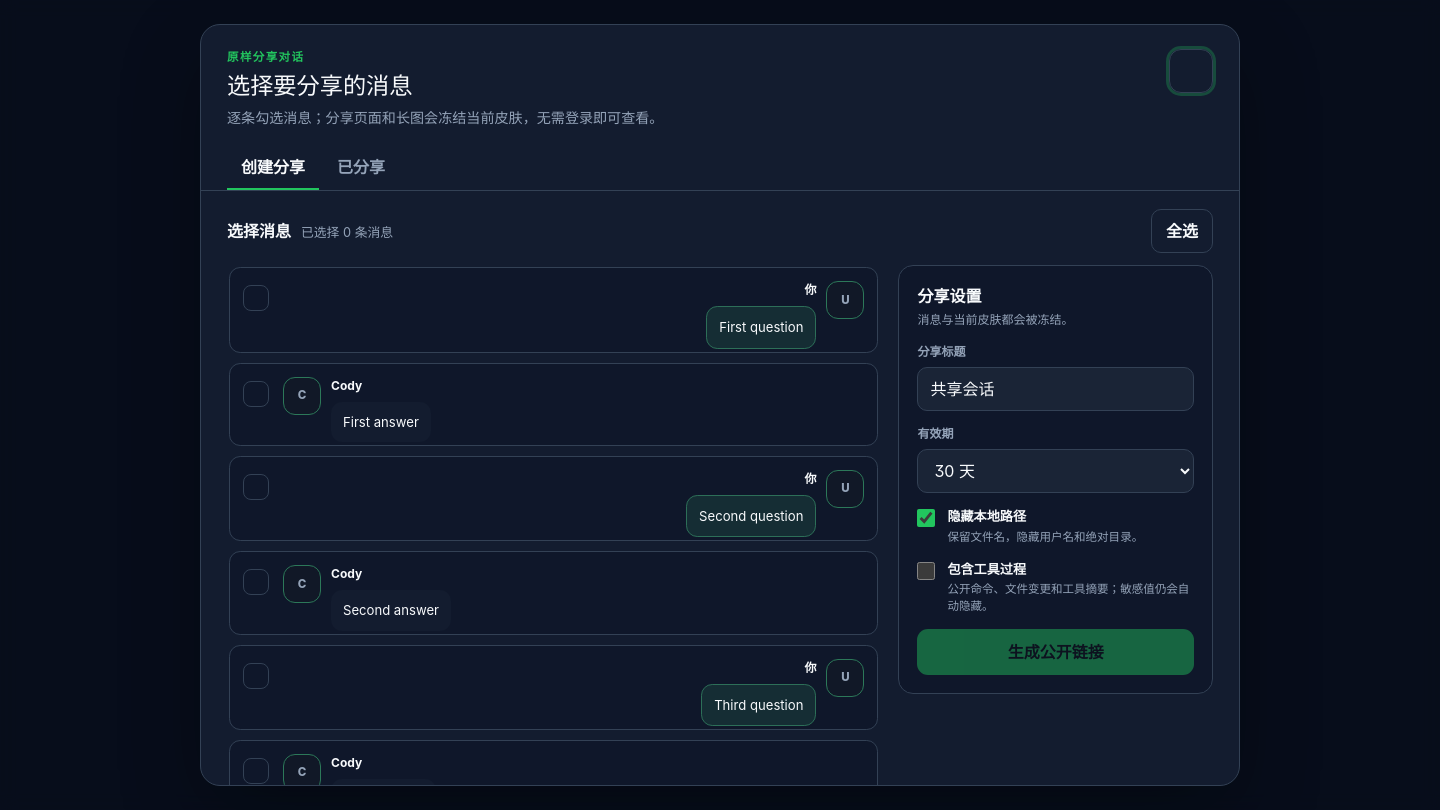
ConversationShareDialog › creates a Chinese snapshot when the interface language is Chinese
The image size is (1440, 810).
Click the checkbox labelled "U 你 First question": {"x": 845, "y": 300} [229,267,878,353]
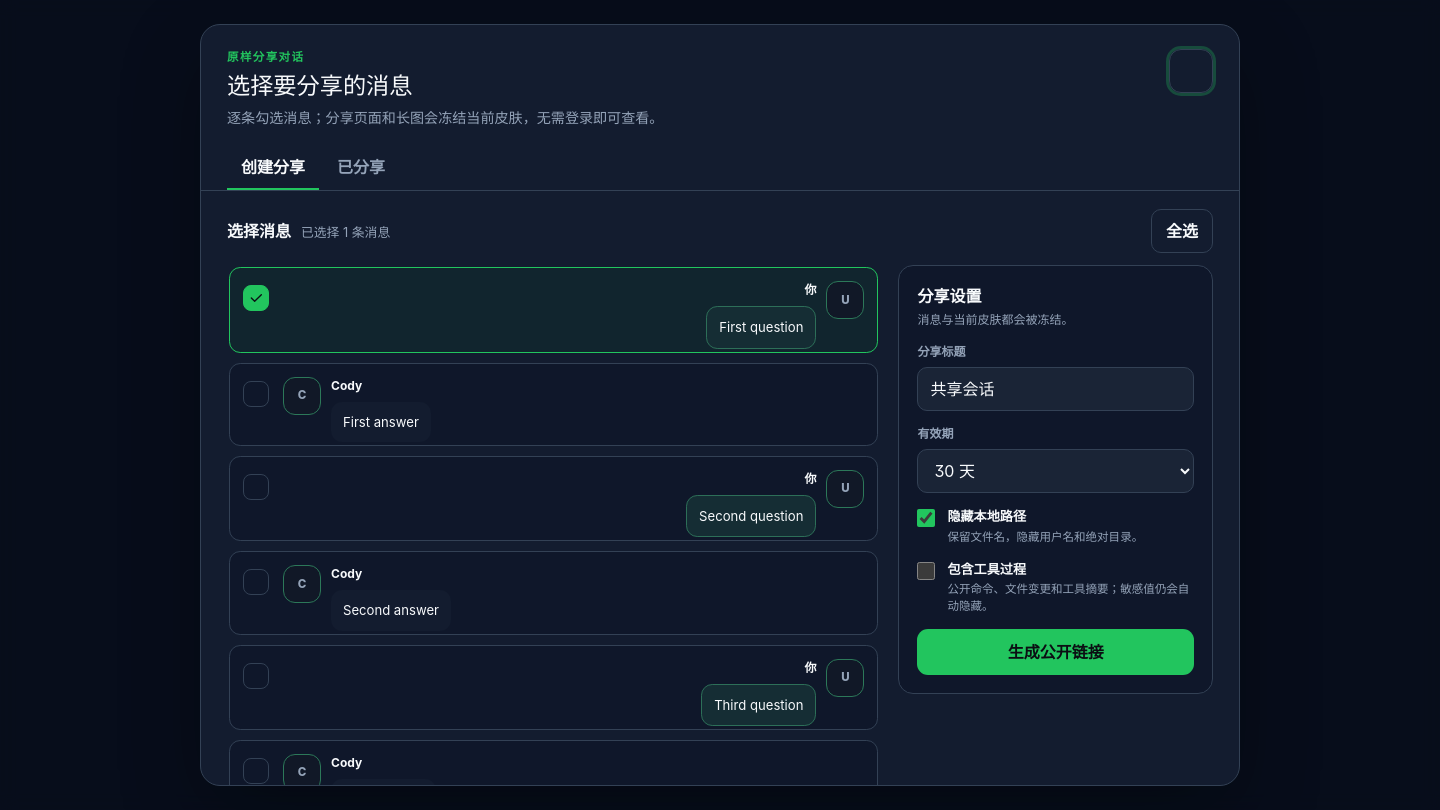
Submit the form with class "share-config", box [898,265,1213,694]
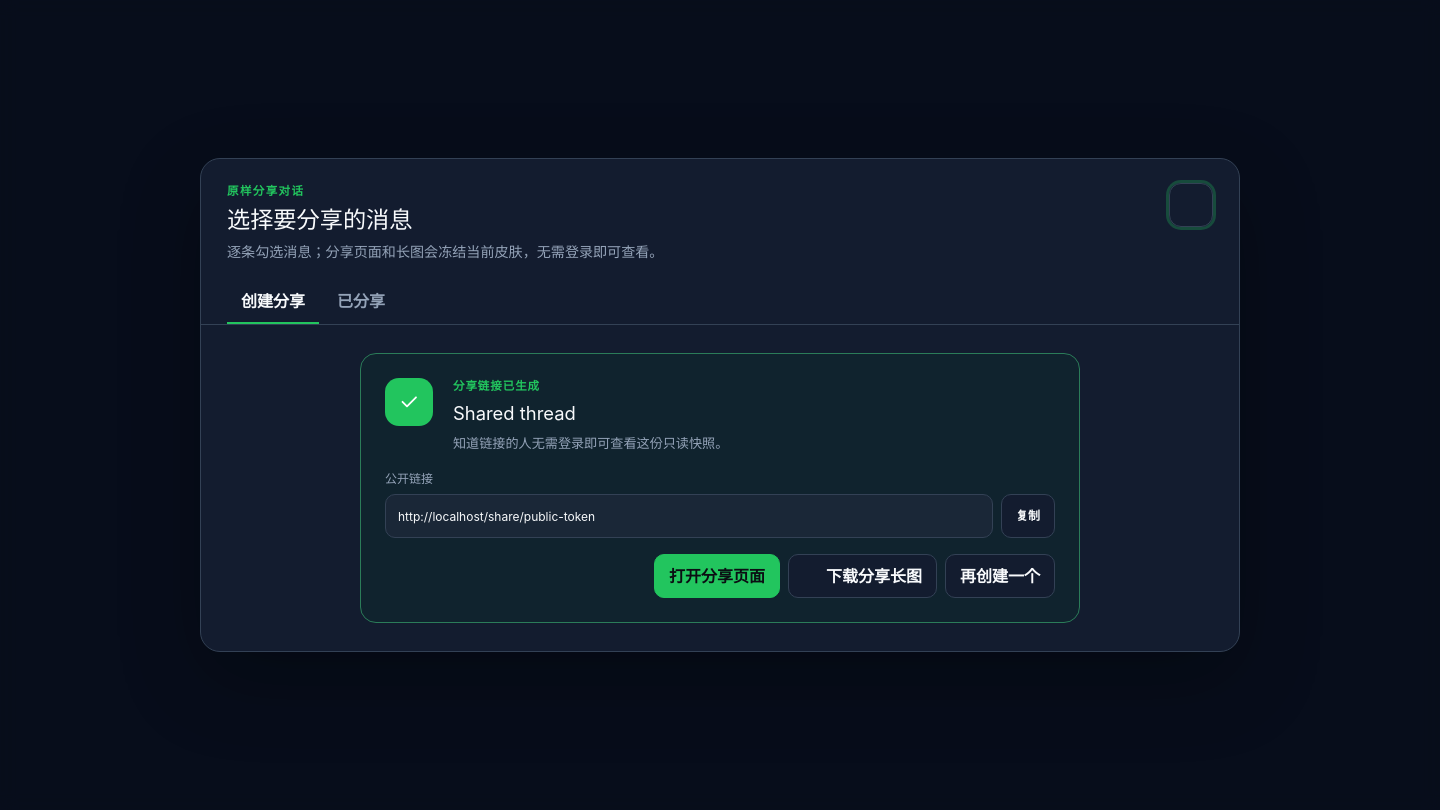
Expected: the text "下载分享长图" is shown, [788,554,937,598]
